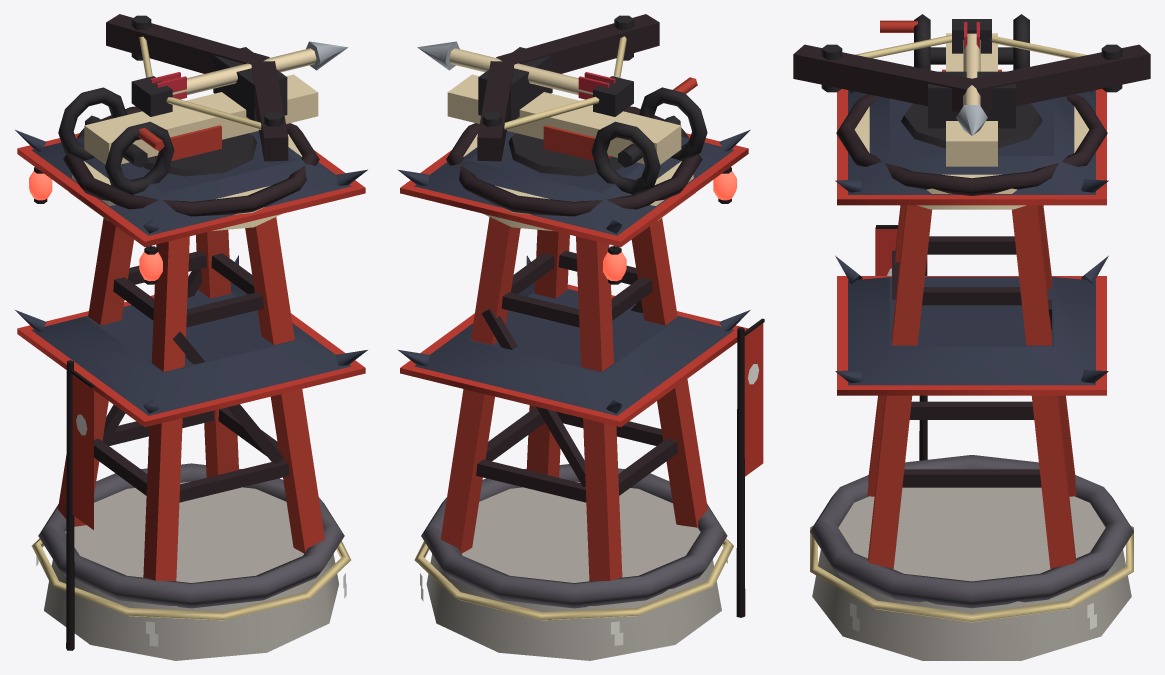
File: tower_ballista.glb
3 renders of one model, left to right at view 1: azimuth 30°, elevation 25°; view 2: azimuth 150°, elevation 25°; view 3: azimuth 270°, elevation 25°, orthographic. The views are drawn at different scales.
Parts seen in each view (by area): view 1: base, deco_eave_1_roof, base_rim, leg_wn, leg_en, deco_eave_0_roof, stock, deco_eave_1_rim, deck_rim, deco_eave_0_rim, bow_arm_r, leg_ws (+29 smaller); view 2: base, deco_eave_1_roof, base_rim, leg_ws, leg_es, deco_eave_0_roof, leg_wn, stock, deco_eave_1_rim, deck_rim, deco_eave_0_rim, bow_arm_l (+28 smaller); view 3: base, deco_eave_1_roof, base_rim, deco_eave_0_roof, leg_en, leg_es, deck_rim, bow_arm_l, bow_arm_r, deco_eave_1_rim, deco_eave_0_rim, deco_shimenawa_rope (+21 smaller).
Part boxes in pixels (left/top/right/bottom): base: left=44, top=481, right=338, bottom=660; deco_eave_1_roof: left=31, top=282, right=351, bottom=415; base_rim: left=38, top=463, right=344, bottom=608; leg_wn: left=143, top=236, right=189, bottom=581; leg_en: left=245, top=217, right=324, bottom=553; deco_eave_0_roof: left=31, top=131, right=351, bottom=235; stock: left=84, top=74, right=318, bottom=164; deco_eave_1_rim: left=17, top=295, right=365, bottom=427; deck_rim: left=63, top=106, right=319, bottom=216; deco_eave_0_rim: left=17, top=133, right=365, bottom=246; bow_arm_r: left=106, top=14, right=269, bottom=73; leg_ws: left=58, top=218, right=133, bottom=526; base: left=426, top=481, right=721, bottom=660; deco_eave_1_roof: left=414, top=282, right=733, bottom=415; base_rim: left=421, top=464, right=727, bottom=608; leg_ws: left=576, top=236, right=622, bottom=581; leg_es: left=440, top=217, right=520, bottom=553; deco_eave_0_roof: left=414, top=131, right=733, bottom=235; leg_wn: left=631, top=218, right=707, bottom=527; stock: left=447, top=74, right=681, bottom=164; deco_eave_1_rim: left=400, top=284, right=748, bottom=427; deck_rim: left=446, top=106, right=702, bottom=216; deco_eave_0_rim: left=400, top=133, right=748, bottom=247; bow_arm_l: left=496, top=14, right=659, bottom=73; base: left=812, top=487, right=1131, bottom=660; deco_eave_1_roof: left=848, top=277, right=1095, bottom=385; base_rim: left=810, top=455, right=1133, bottom=608; deco_eave_0_roof: left=848, top=90, right=1095, bottom=194; leg_en: left=868, top=205, right=931, bottom=569; leg_es: left=1012, top=205, right=1075, bottom=569; deck_rim: left=836, top=94, right=1107, bottom=195; bow_arm_l: left=793, top=44, right=976, bottom=112; bow_arm_r: left=968, top=44, right=1150, bottom=112; deco_eave_1_rim: left=837, top=276, right=1106, bottom=395; deco_eave_0_rim: left=837, top=89, right=1106, bottom=205; deco_shimenawa_rope: left=810, top=525, right=1133, bottom=622.
Bounding box in the file's own units: 0.4662 × 0.7685 × 0.4469.
